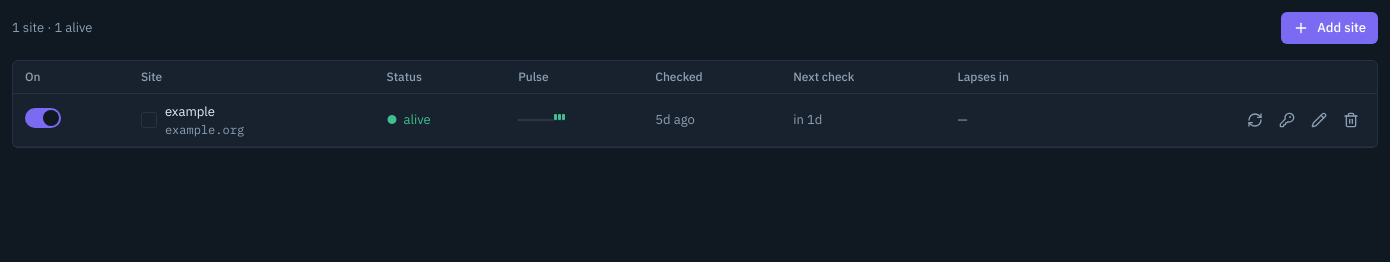
Sites › shows the stored session's details when a row is expanded
This screenshot has width=1390, height=262.
Expected: the text "example" is shown, 165,103 -> 215,120
Click the button with aria-label "Show details for example" at point(192, 120), box 141,102 -> 244,138
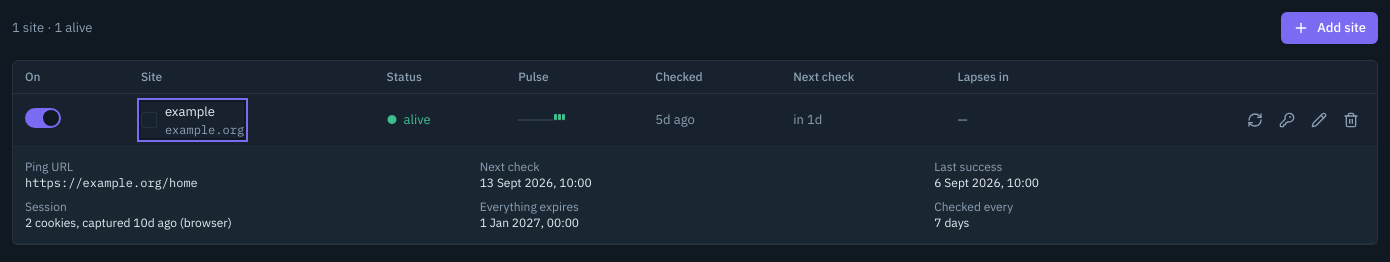
Expected: the text "2 cookies, captured 10d ago (browser)" is shown, 25,215 -> 232,230
Expected: the text "https://example.org/home" is shown, 25,175 -> 198,190
Expected: the text "1 Jan 2027, 00:00" is shown, 480,215 -> 579,230
